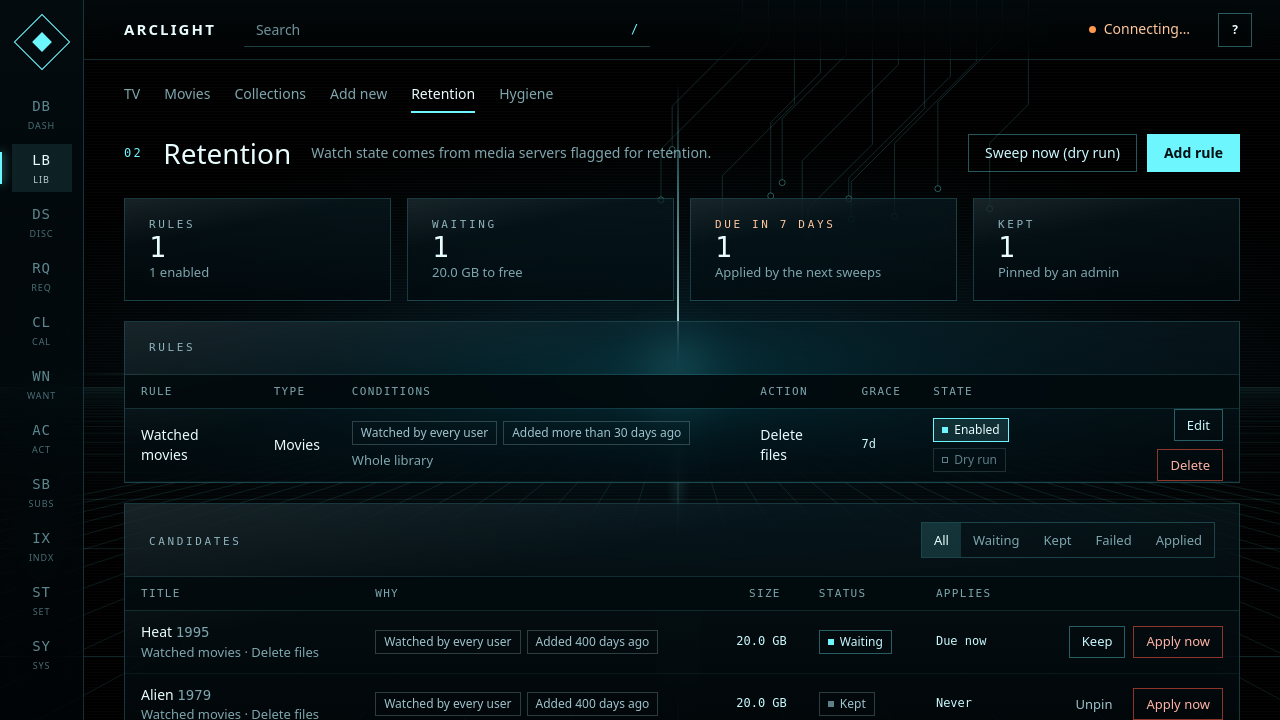
Test: Library → Retention › filters candidates by status
Expected: the text "Alien" is shown, [141,684,174,704]
Click the button "Kept": click(1058, 540) [1032,523,1084,557]
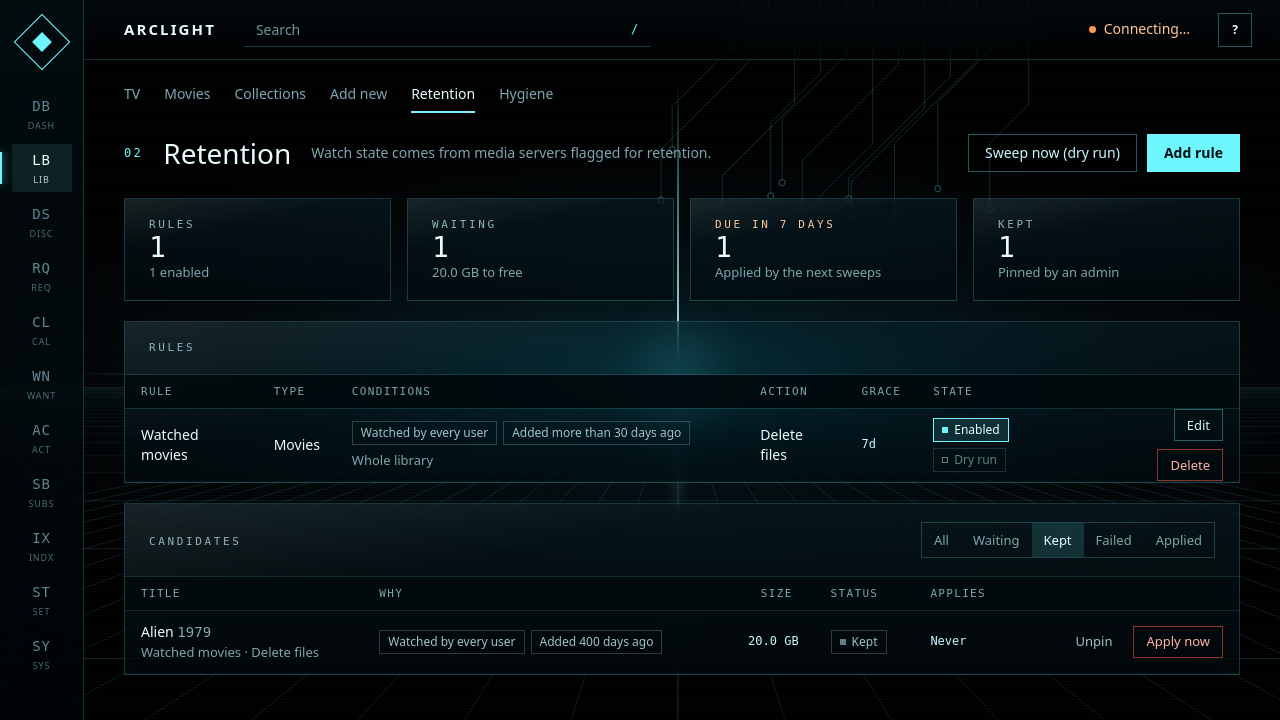
Expected: the text "Alien" is shown, [141,622,174,641]
Now the text "Heat" is gone
